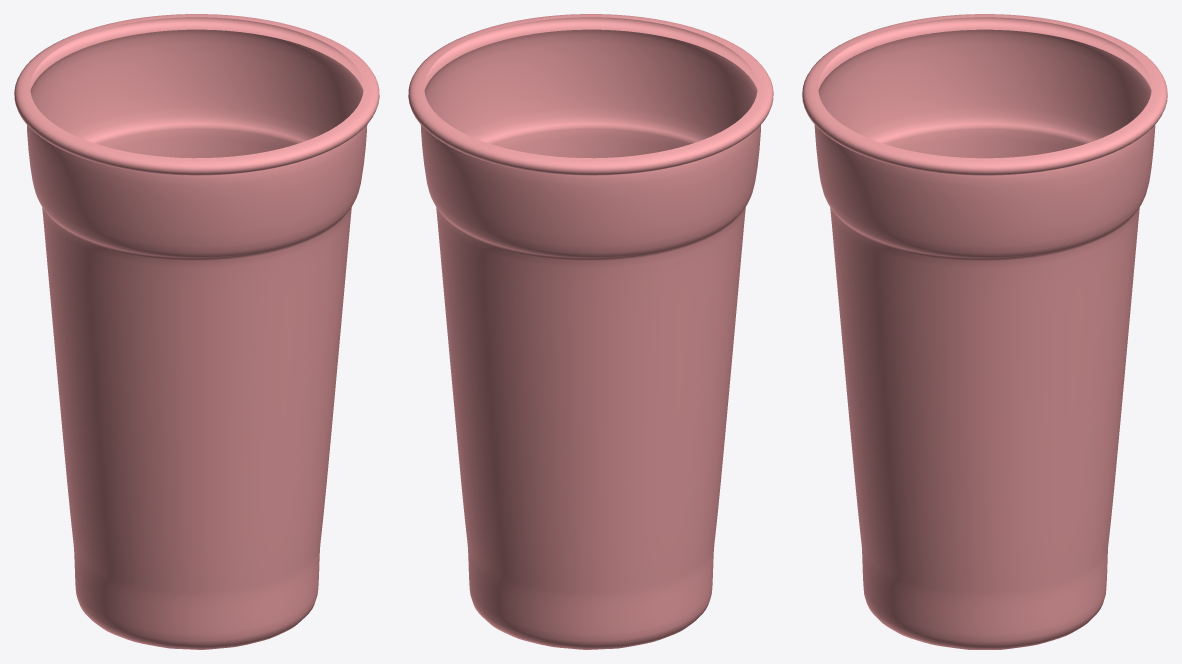
The model's file is PlasticCup.fbx.
3 renders of one model, left to right at view 1: azimuth 30°, elevation 25°; view 2: azimuth 150°, elevation 25°; view 3: azimuth 270°, elevation 25°, orthographic.
Parts seen in each view (by area): view 1: PlasticCup; view 2: PlasticCup; view 3: PlasticCup.
Boxes of the visible parts, x1,y1,x2,y2 form: PlasticCup: (14, 14, 379, 649); PlasticCup: (408, 14, 773, 649); PlasticCup: (802, 14, 1167, 649).
Size of the model in its own units: 2.06 by 3.28 by 2.06.
